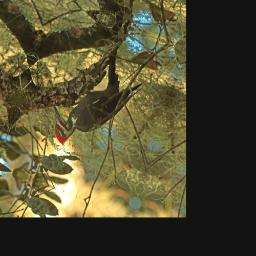Woodpecker: (43, 53, 144, 167)
